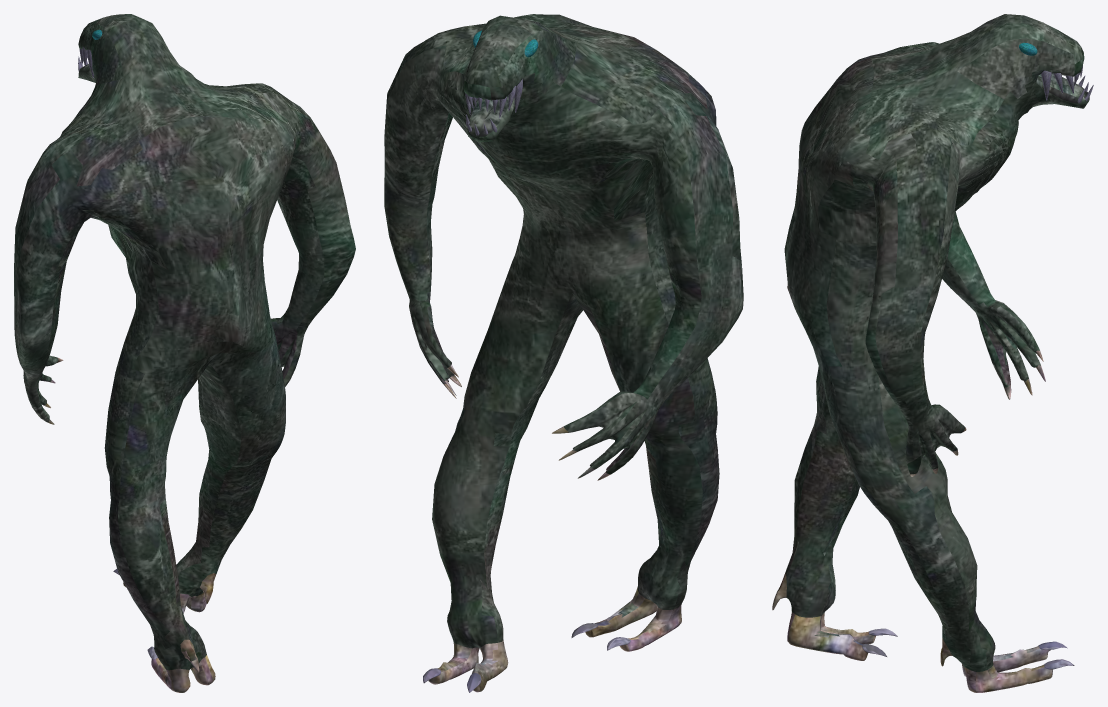
File: Andar.0011.obj
3 renders of one model, left to right at view 1: azimuth 30°, elevation 25°; view 2: azimuth 150°, elevation 25°; view 3: azimuth 270°, elevation 25°, orthographic. The views are drawn at different scales.
Parts seen in each view (by area): view 1: polySurface28; view 2: polySurface28; view 3: polySurface28.
Part boxes in pixels (left/top/right/bottom): polySurface28: left=14, top=14, right=355, bottom=692; polySurface28: left=384, top=14, right=743, bottom=692; polySurface28: left=772, top=14, right=1093, bottom=692.
Bounding box in the file's own units: 1.27 × 2.29 × 1.03.
Materials: 4 (4 with a texture image).
